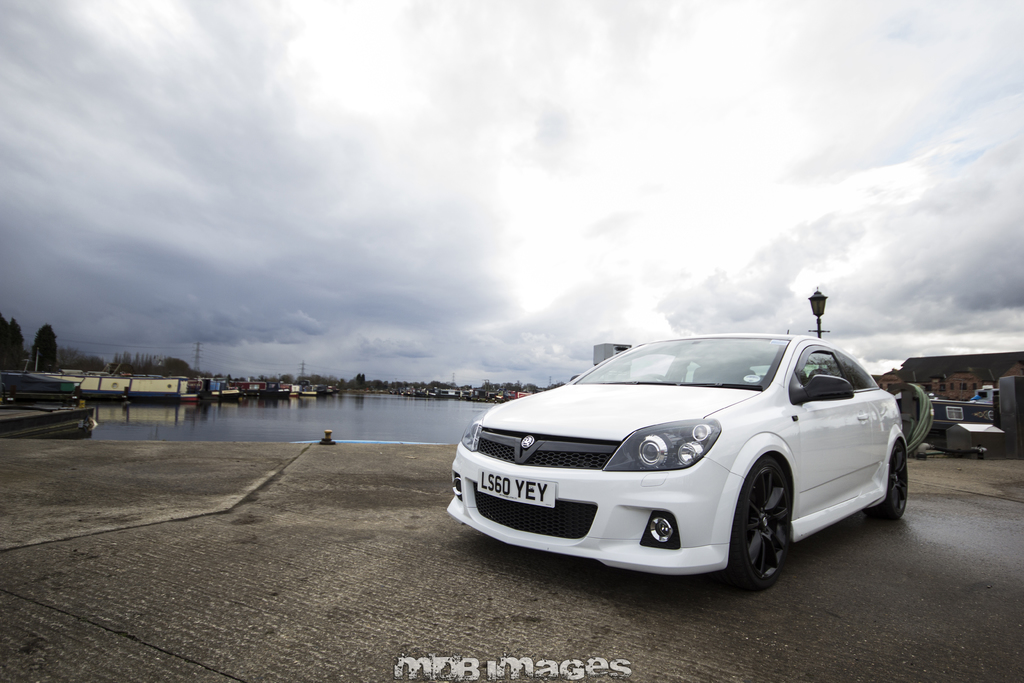Car: (442, 320, 912, 587)
